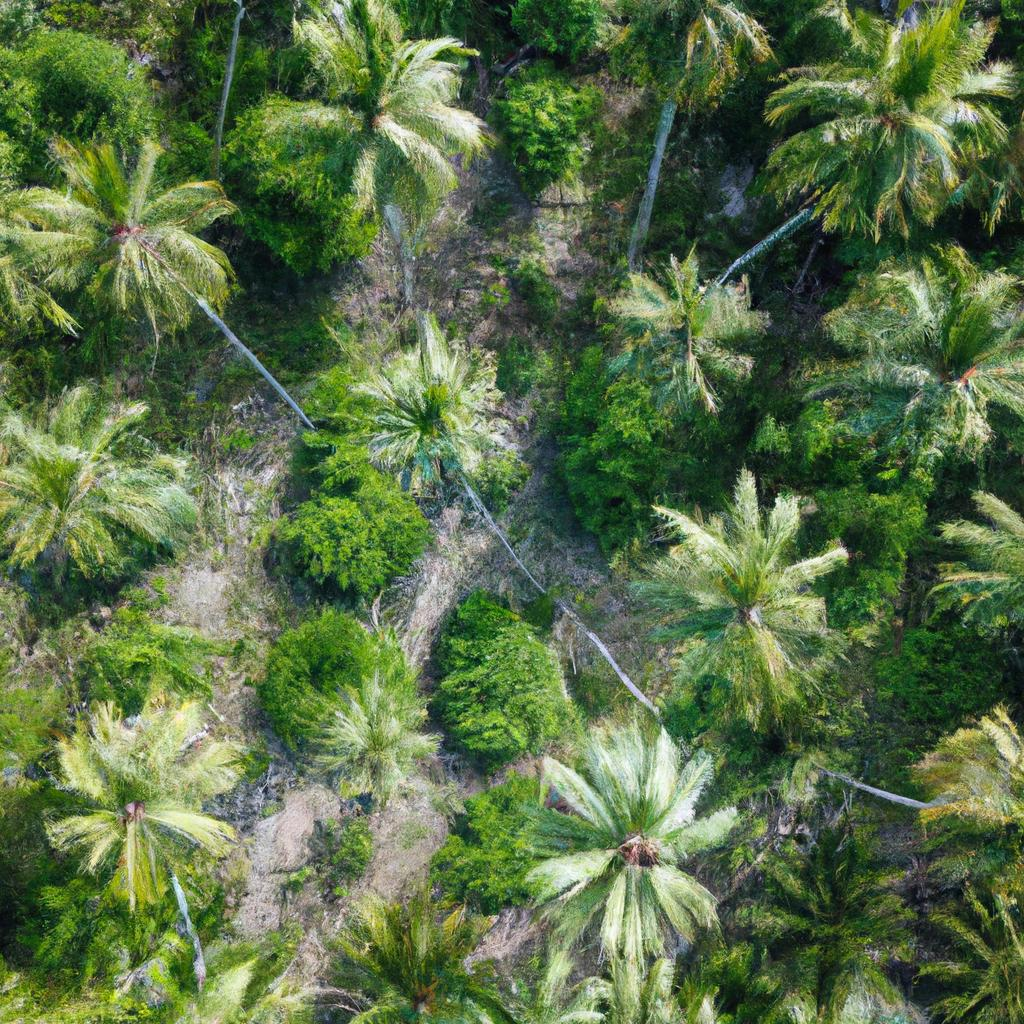coconut_tree: (505, 708, 743, 969), (774, 1, 1023, 235), (26, 683, 274, 888), (639, 483, 862, 704), (20, 139, 248, 340), (8, 386, 224, 577), (821, 254, 1023, 454), (358, 315, 542, 512), (632, 245, 769, 407)
